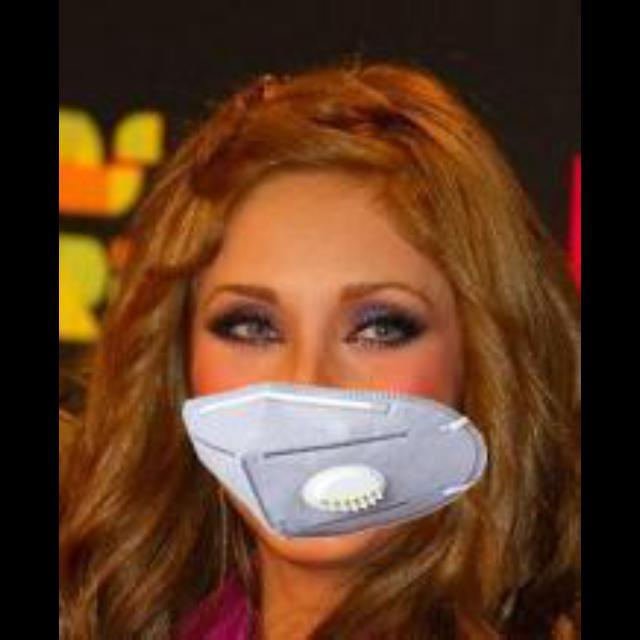suspicion: (195, 149, 512, 583)
